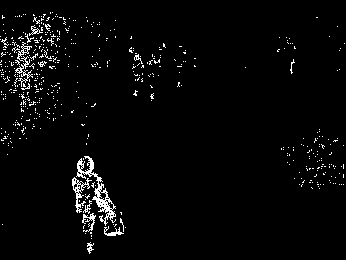person: (71, 156, 126, 253), (146, 52, 160, 101), (130, 52, 142, 95)
